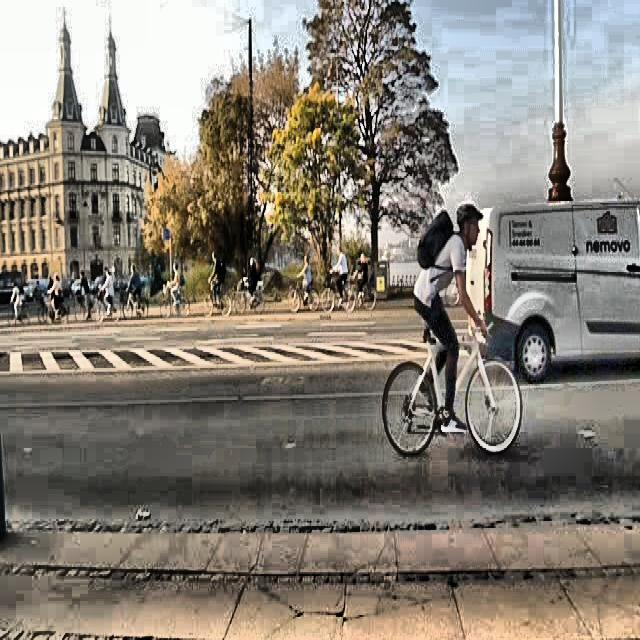bicycle: (382, 320, 526, 463)
